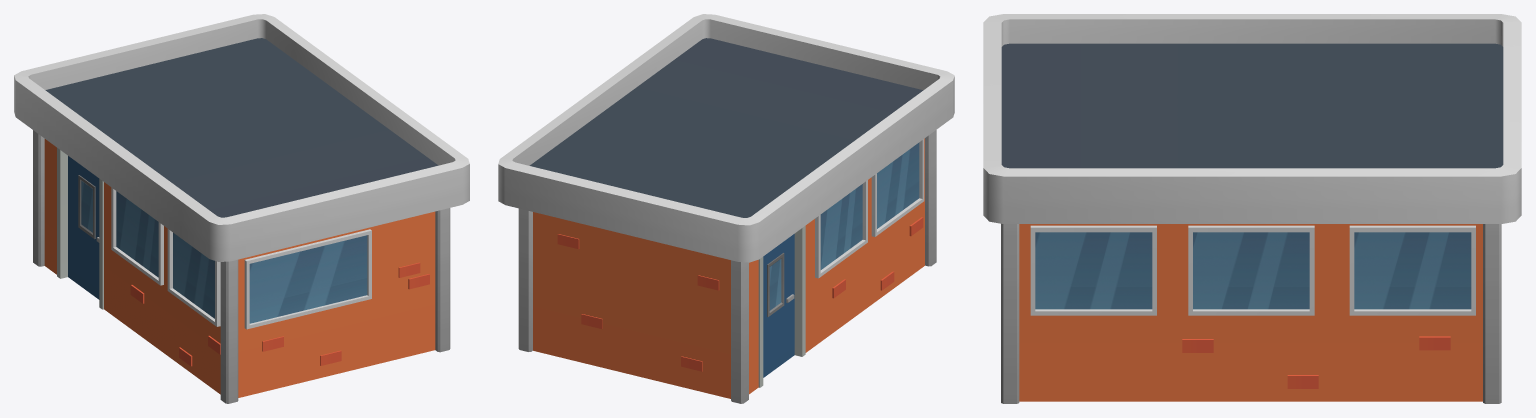
The model's file is Building_13_A.fbx.
3 views of the same model, side by side, from view 1: azimuth 30°, elevation 25°; view 2: azimuth 150°, elevation 25°; view 3: azimuth 270°, elevation 25° (orthographic). The views are drawn at different scales.
Visible parts, largest first — view 1: Building_13_A; view 2: Building_13_A; view 3: Building_13_A.
Boxes of the visible parts, box(x1,y1,x2,y2) form: Building_13_A: box(14, 14, 469, 403); Building_13_A: box(498, 14, 954, 403); Building_13_A: box(983, 14, 1521, 403).
Size of the model in its own units: 392 by 271 by 549.
